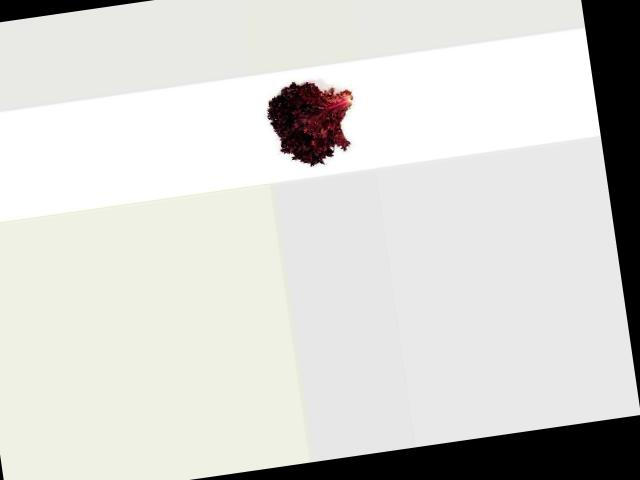lettuce: (259, 76, 370, 173)
